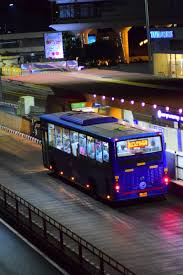Chigari: (33, 104, 175, 209)
